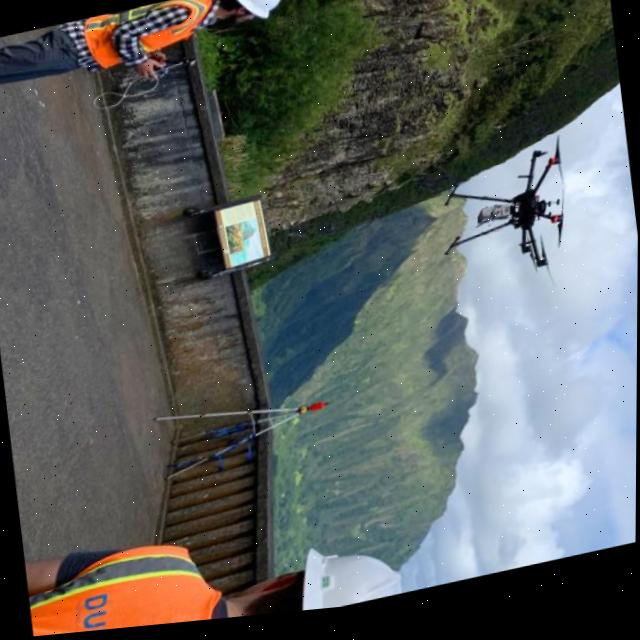drones: (408, 129, 602, 327)
